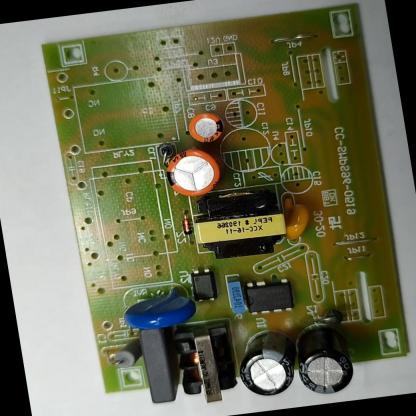Cap1: (160, 143, 224, 201)
Cap2: (185, 109, 225, 147)
Cap3: (232, 328, 299, 400)
Cap4: (288, 320, 358, 399)
MOSFET: (244, 276, 293, 318)
Mov: (119, 284, 197, 331)
Resistor: (107, 335, 142, 373)
Transformer: (187, 184, 290, 262), (171, 322, 239, 408)
